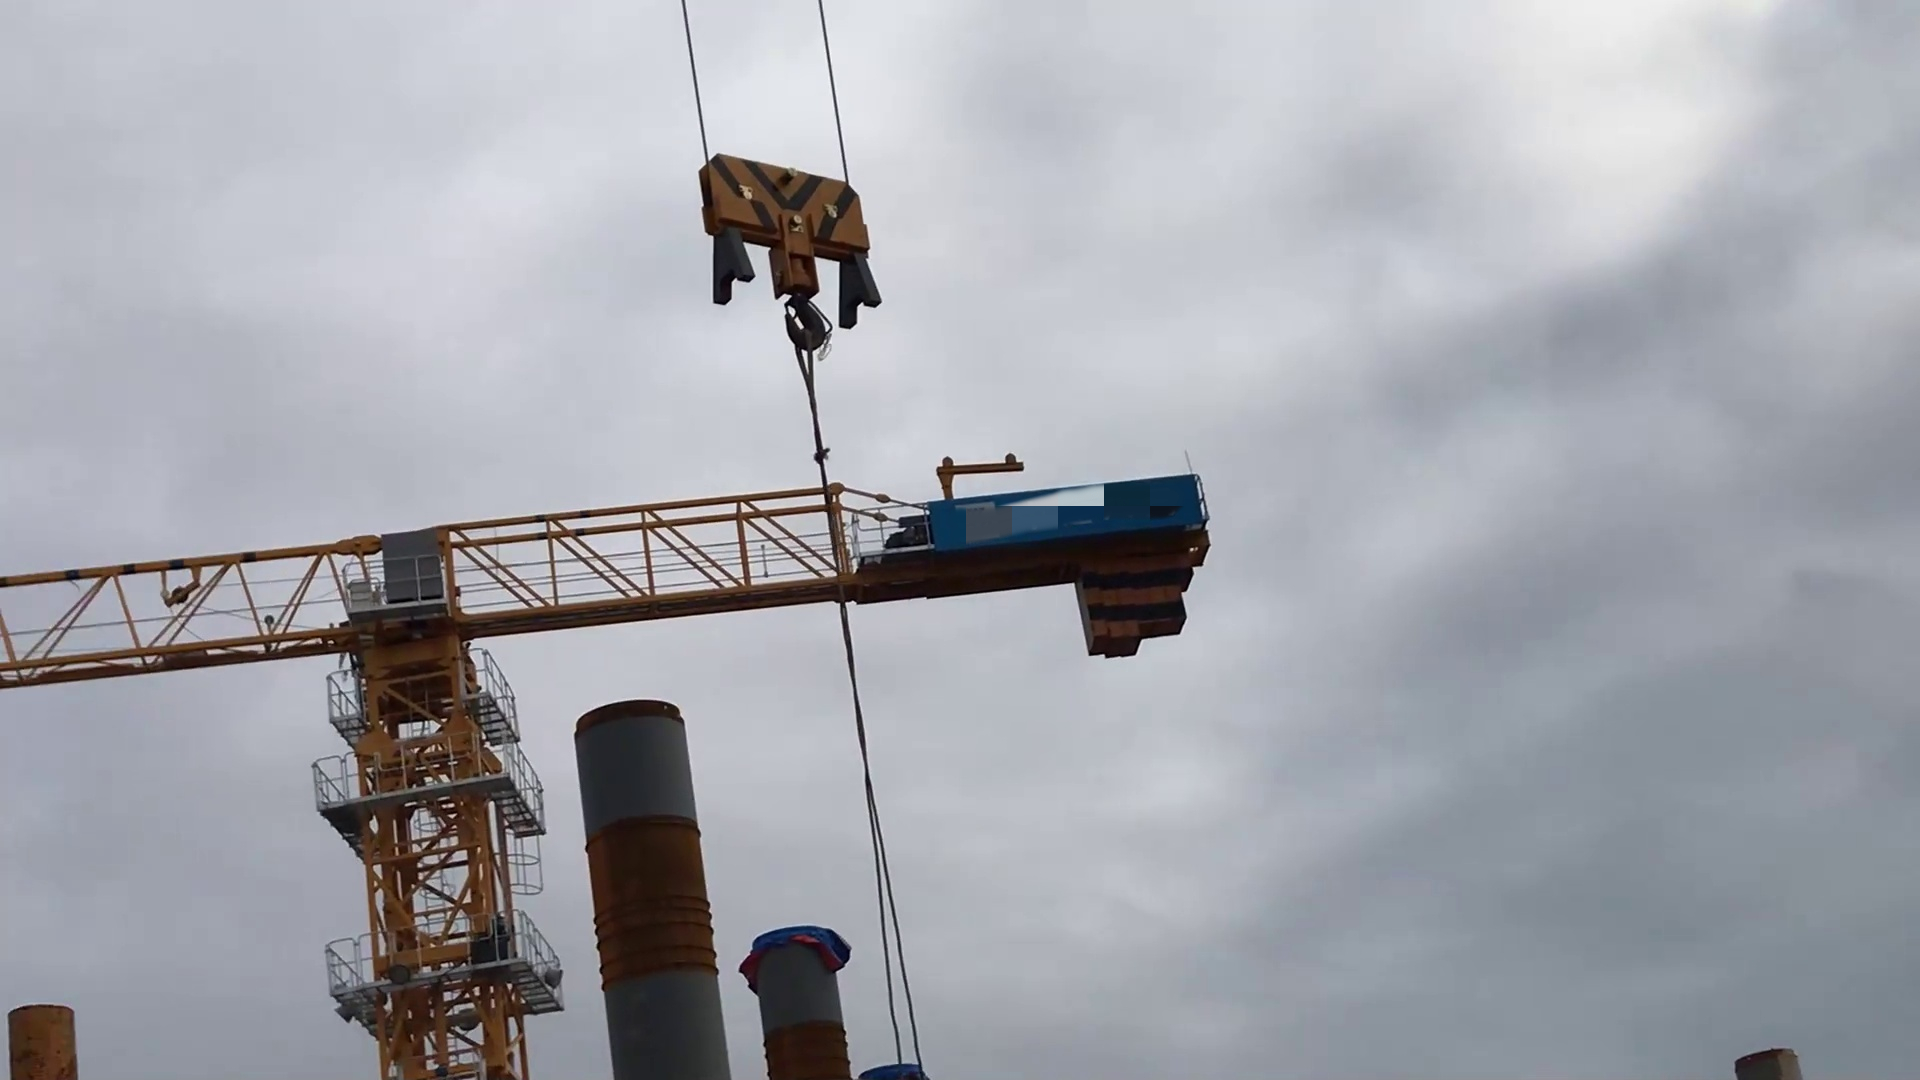hook: (688, 146, 895, 368)
